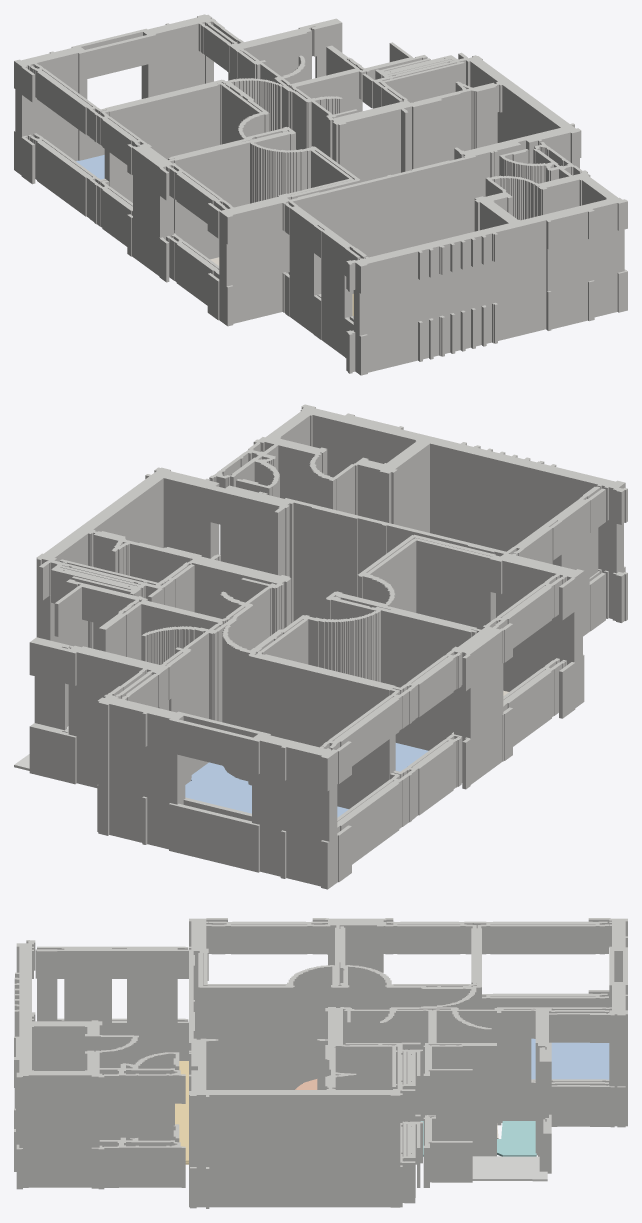
The picture shows the model from 3 angles, top to bottom: view 1: azimuth 30°, elevation 25°; view 2: azimuth 150°, elevation 25°; view 3: azimuth 270°, elevation 25°; orthographic projection. The views are drawn at different scales.
Visible parts, largest first — view 1: walls; view 2: walls, room:bedroom:0; view 3: walls, room:bedroom:0, room:ledge:2, room:bath:1, room:living:7.
Boxes of the visible parts, x1=… form: walls: x1=14, y1=14, x2=627, y2=375; walls: x1=29, y1=404, x2=627, y2=889; room:bedroom:0: x1=185, y1=762, x2=348, y2=817; walls: x1=14, y1=918, x2=627, y2=1208; room:bedroom:0: x1=531, y1=1038, x2=609, y2=1079; room:ledge:2: x1=472, y1=1156, x2=547, y2=1181; room:bath:1: x1=497, y1=1121, x2=536, y2=1156; room:living:7: x1=175, y1=1061, x2=188, y2=1164.
Size of the model in its own units: 9.58 by 2.8 by 13.9.
